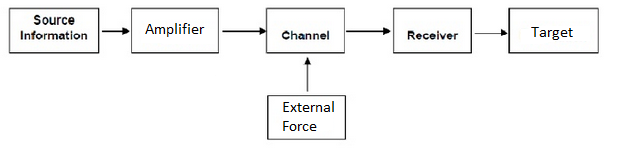arrow: (220, 26, 267, 37), (346, 26, 392, 35), (303, 55, 312, 95), (99, 26, 133, 36), (471, 29, 508, 37)
process: (7, 6, 102, 55), (506, 6, 600, 55), (130, 6, 221, 56), (391, 5, 474, 56), (264, 6, 346, 55), (265, 94, 348, 142)
text: (19, 13, 89, 40), (281, 99, 336, 133), (144, 21, 204, 37), (405, 28, 459, 43), (279, 28, 330, 42), (529, 25, 573, 40)
